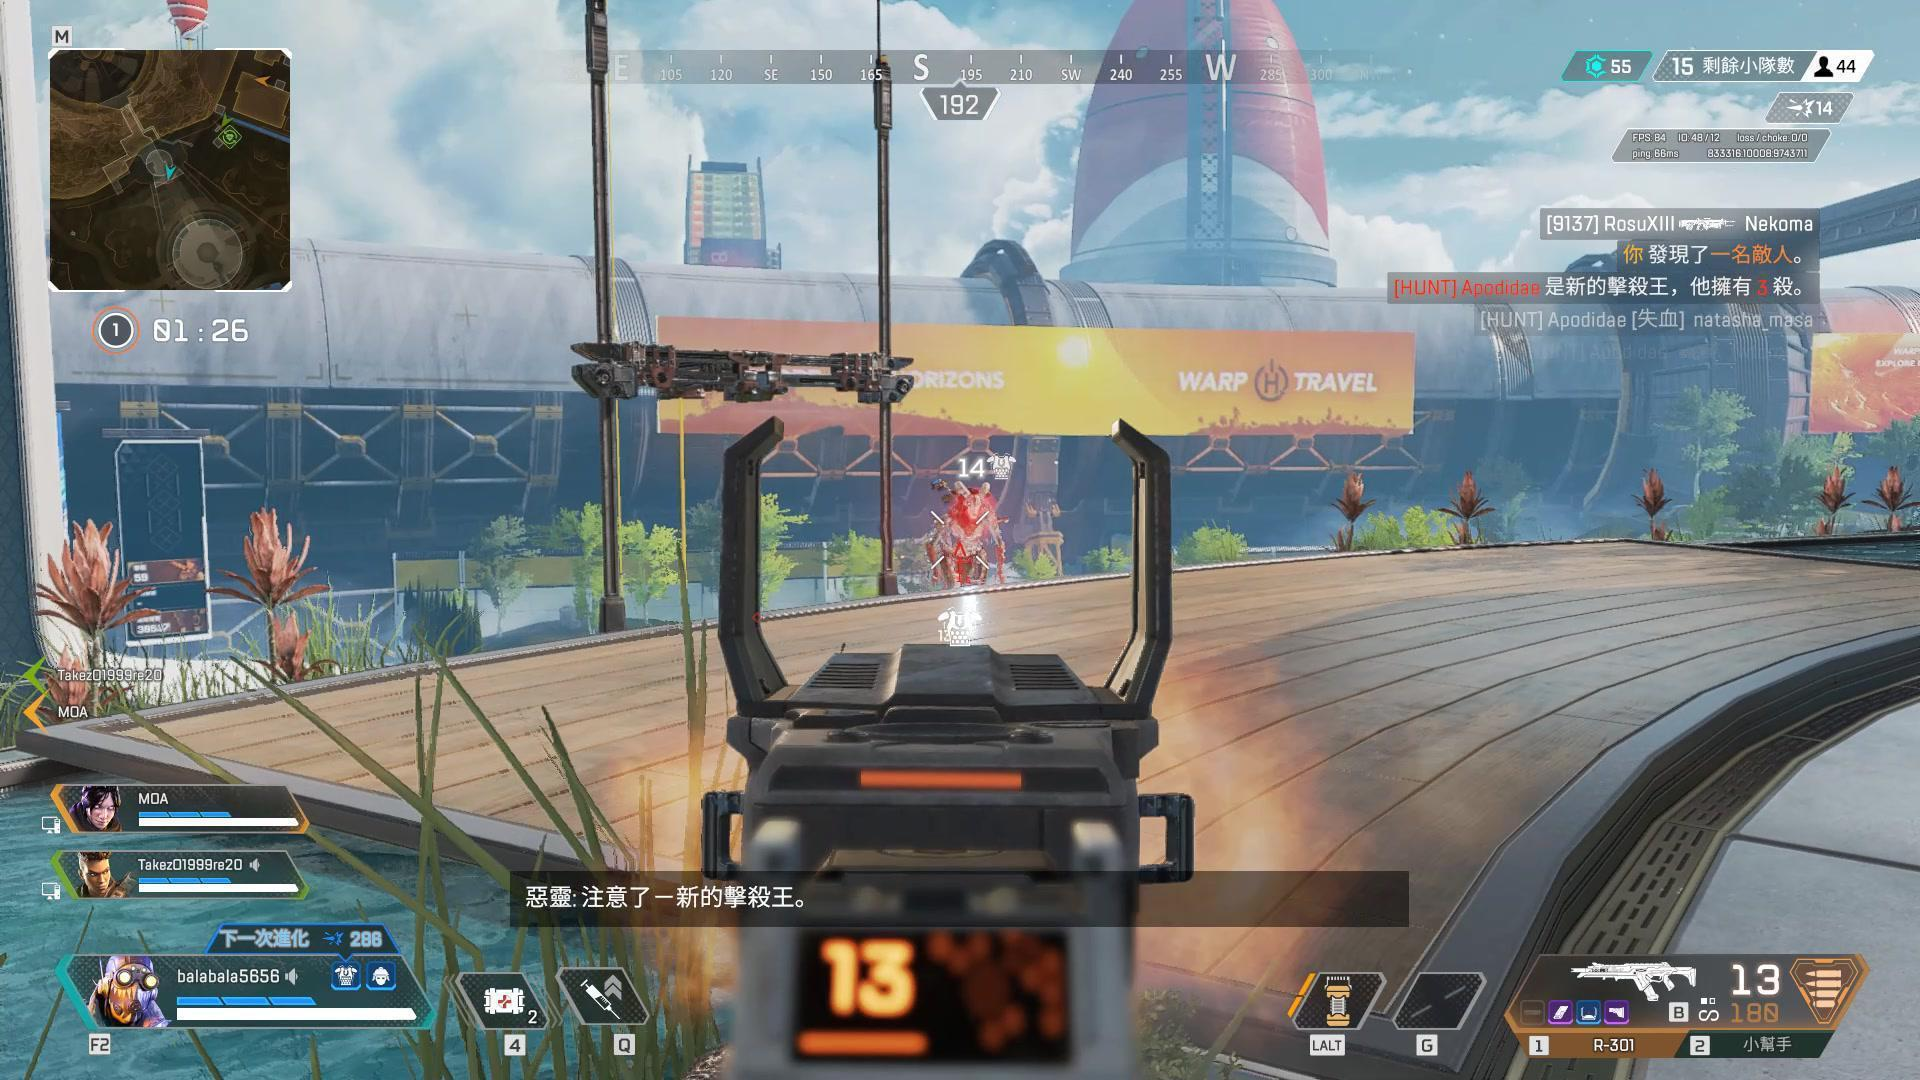avatar: (923, 478, 1007, 593)
